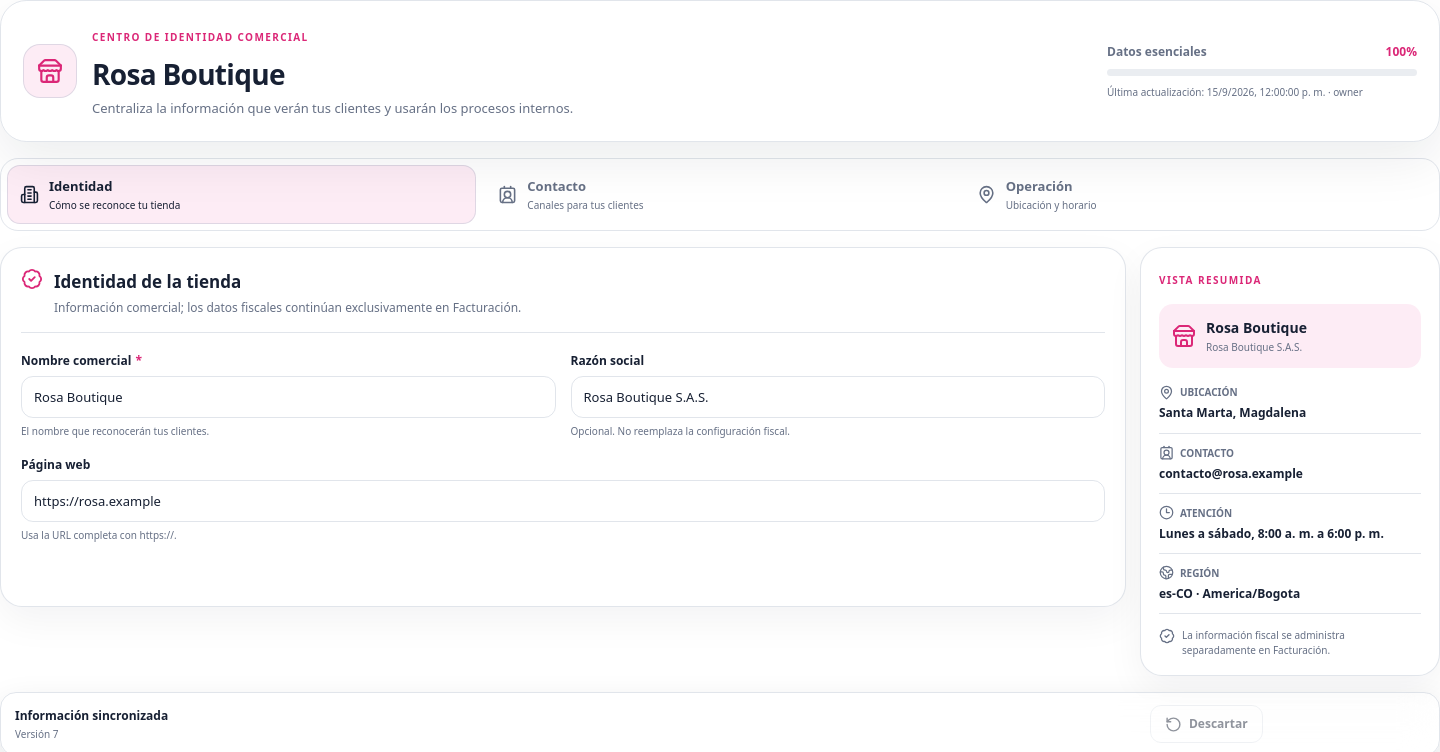
Test case: EmpresaSection › configura un horario semanal rápido y permite jornada dividida
Expected: the heading "Identidad de la tienda" is shown, [54,270,241,293]
Click the button "Operación Ubicación y horario": (1039, 186) [964,164,1433,224]
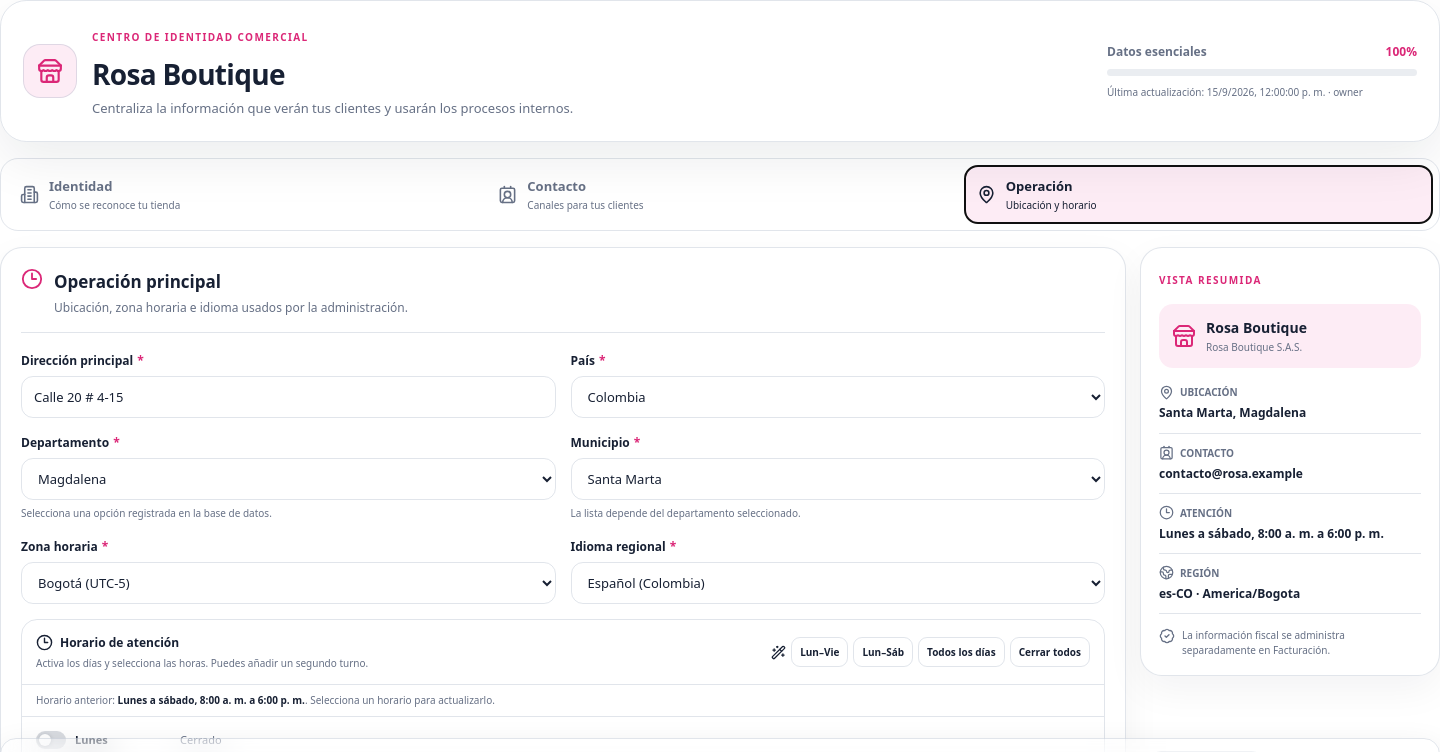
Click the button "Lun–Sáb": (883, 652) [853,637,913,667]
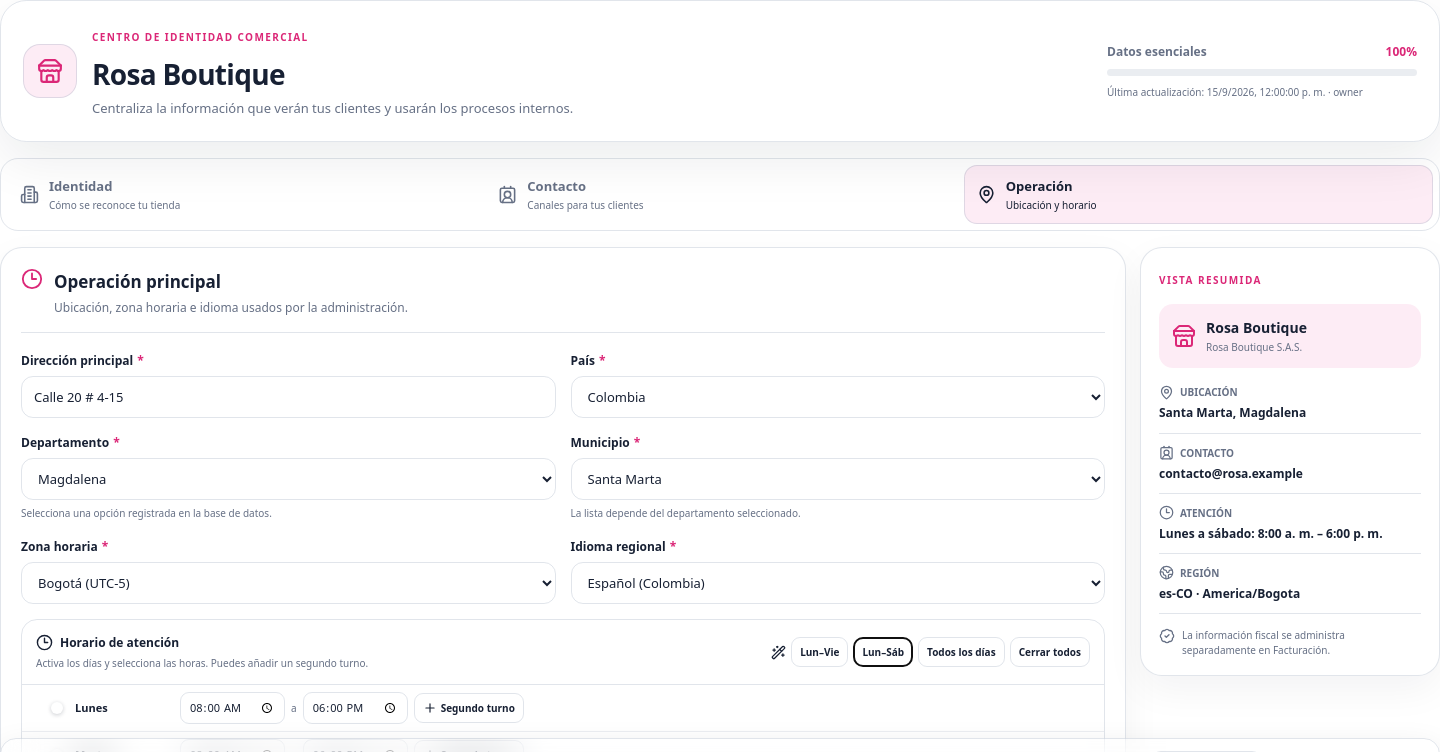
Expected: the time field named "Hora de apertura del lunes, turno 1" holds "08:00", [180,692,285,724]
Expected: the text "Lunes a sábado: 8:00 a. m. – 6:00 p. m." is shown 2 times
Click the 1st button "Segundo turno": (469, 708) [414,693,524,723]
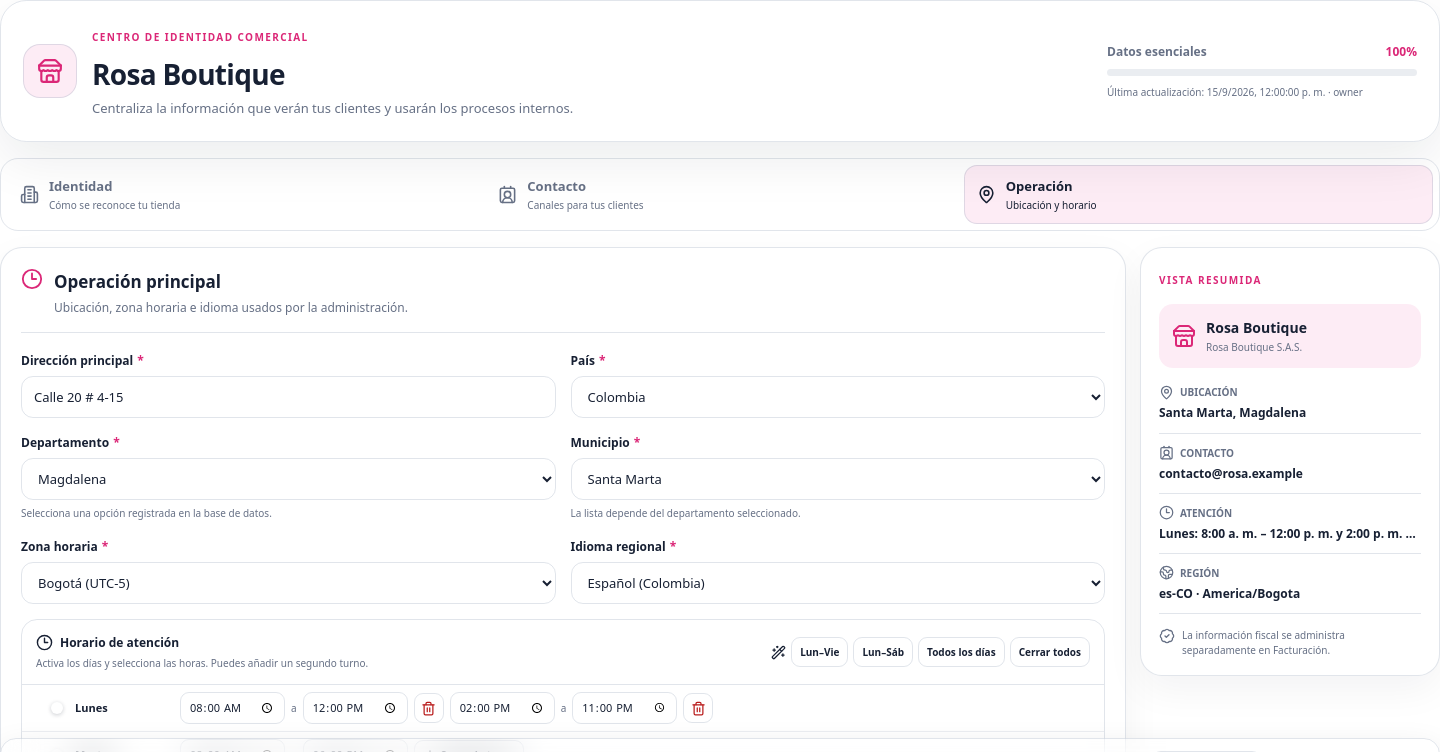
Expected: the time field named "Hora de cierre del lunes, turno 1" holds "12:00", [303,692,408,724]
Expected: the time field named "Hora de apertura del lunes, turno 2" holds "14:00", [450,692,555,724]
